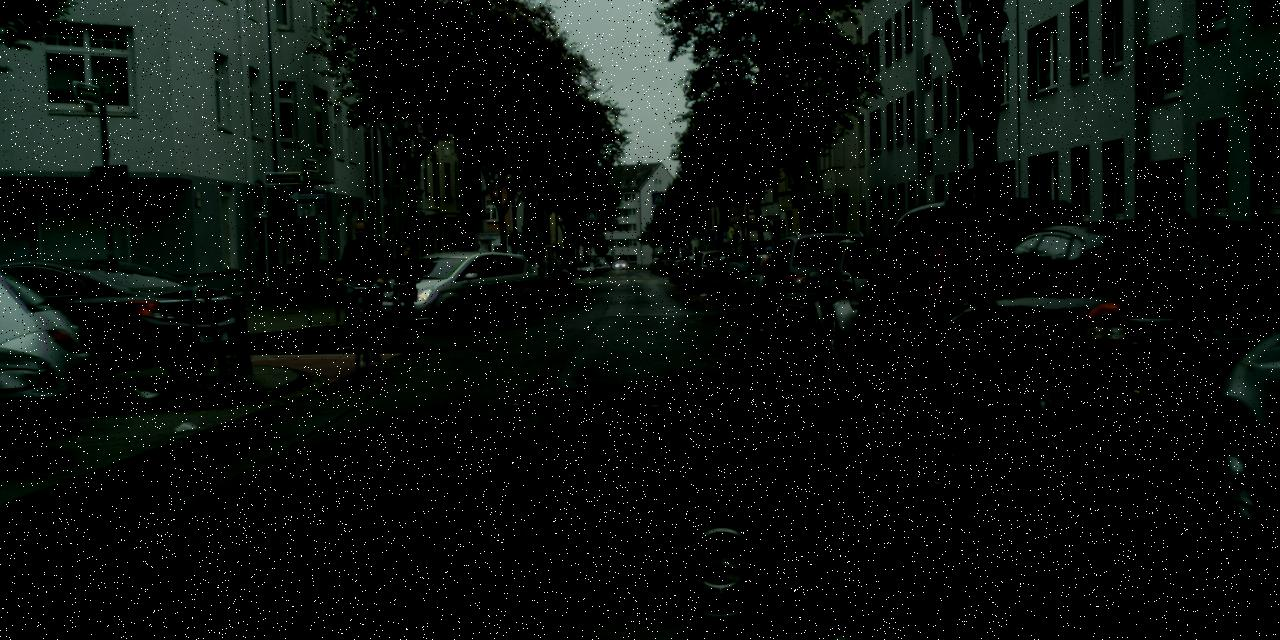ped: (335, 221, 388, 350), (388, 245, 421, 326)
